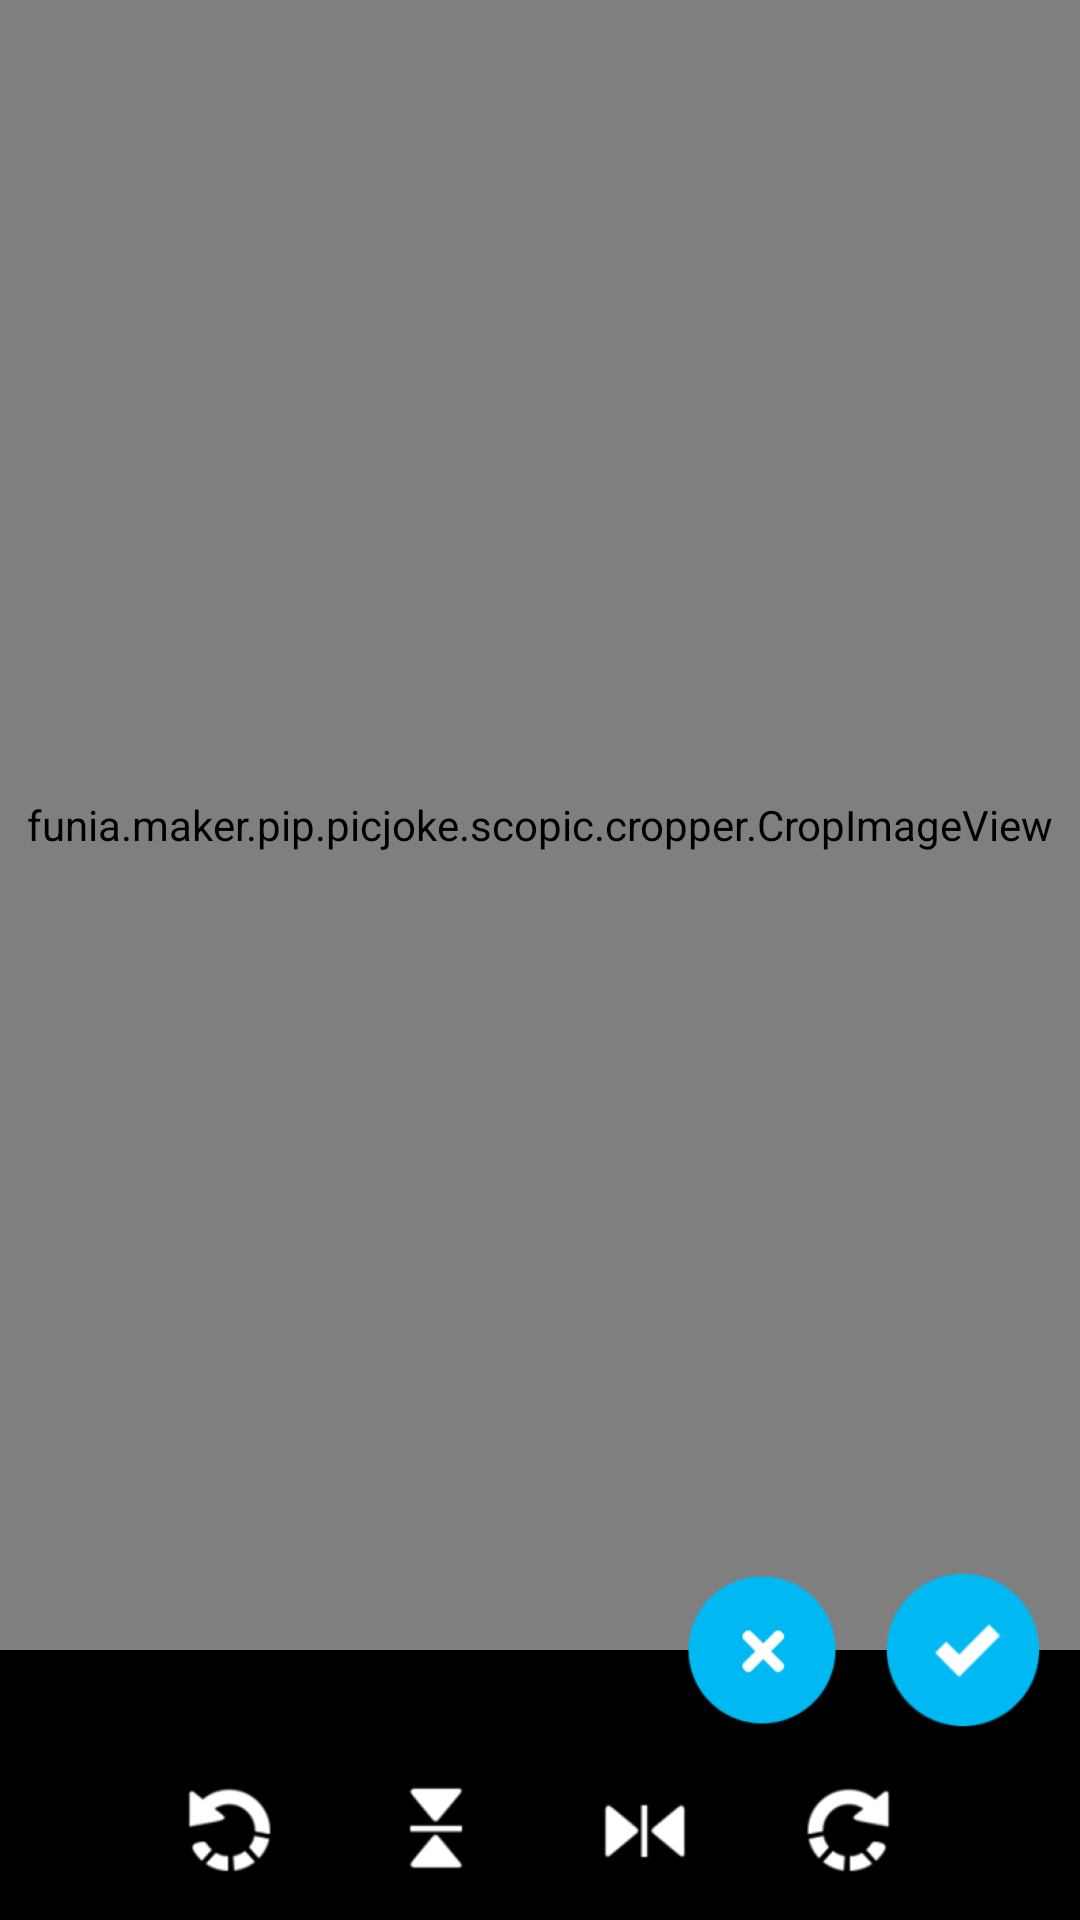

Named icons in this screenshot (1080 × 1920) and their centers, (x=x, y=y):
Close: (x=762, y=1650)
Done: (x=963, y=1650)
Flip horizontal: (x=645, y=1831)
Flip vertical: (x=436, y=1828)
Rotate left: (x=229, y=1830)
Rotate right: (x=848, y=1830)
